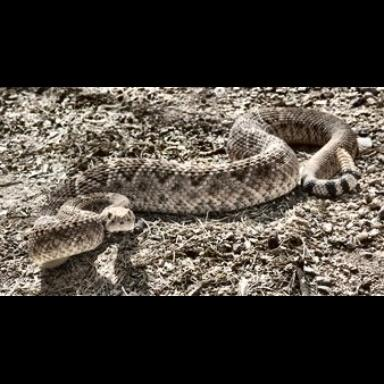snake: (28, 109, 362, 268)
